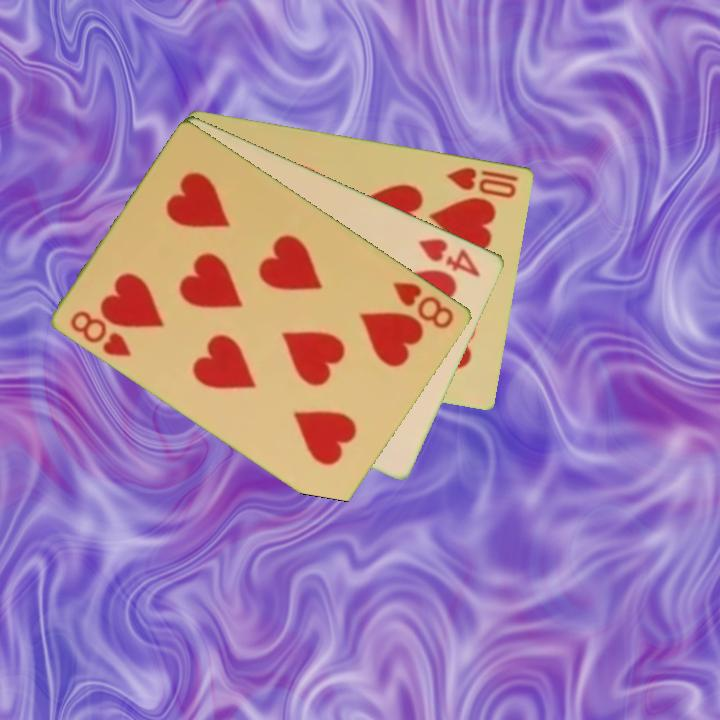10h: (443, 163, 522, 201)
4h: (415, 234, 485, 280)
8h: (389, 278, 458, 332), (67, 307, 135, 360)
